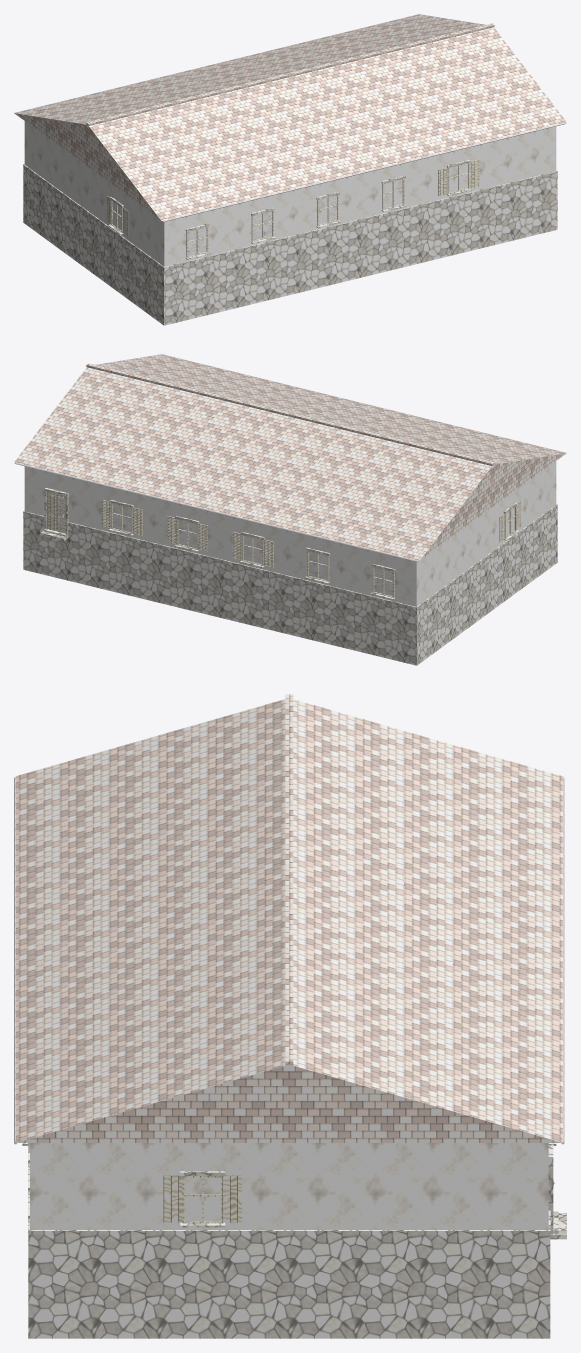
3 renders of one model, top to bottom at view 1: azimuth 30°, elevation 25°; view 2: azimuth 150°, elevation 25°; view 3: azimuth 270°, elevation 25°, orthographic. The views are drawn at different scales.
Visible parts, largest first — view 1: b962648344; view 2: b962648344; view 3: b962648344.
Part boxes in pixels (x1,y1,x2,y2): b962648344: (14,14,566,325); b962648344: (14,354,566,665); b962648344: (14,694,566,1338).
Bounding box in the file's own units: 21.22 × 7.62 × 13.5.
17 materials, 17 textured.
